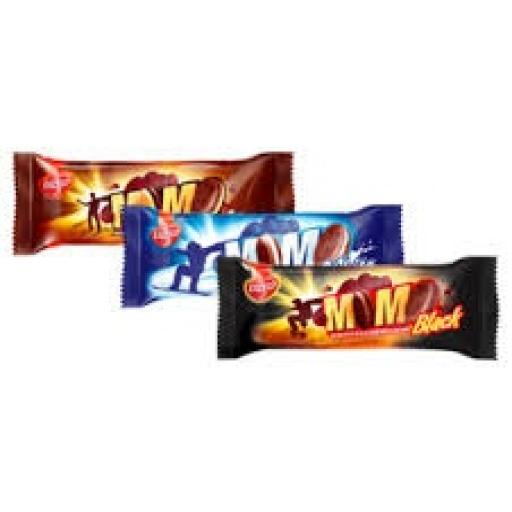MOMO: (205, 237, 512, 388)
